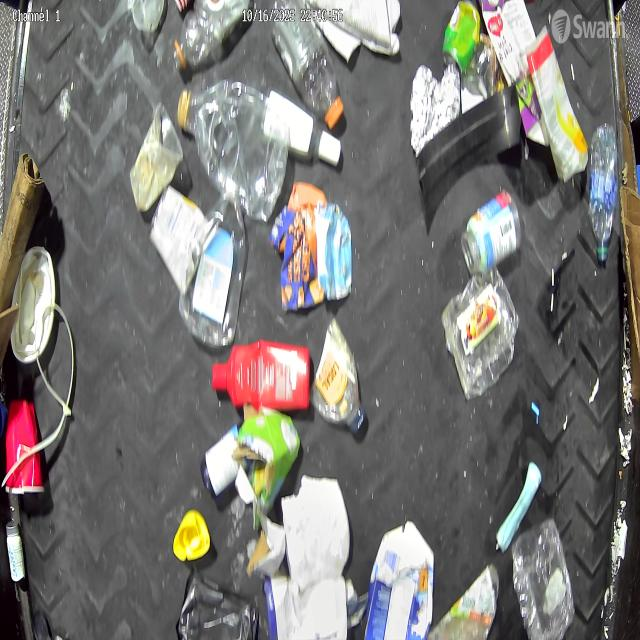can: (452, 37, 504, 106), (442, 0, 481, 77)
non_white_jug: (481, 0, 550, 146), (365, 520, 435, 639), (211, 343, 310, 411)
plastic_bottle: (179, 80, 290, 223), (179, 176, 246, 348), (273, 15, 344, 126), (309, 316, 366, 436), (174, 0, 248, 72), (588, 124, 620, 265)
